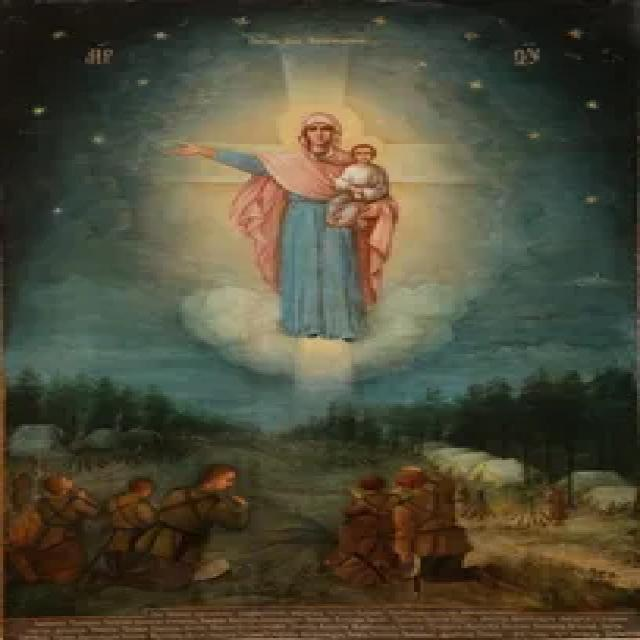mother of god: (154, 96, 440, 346)
